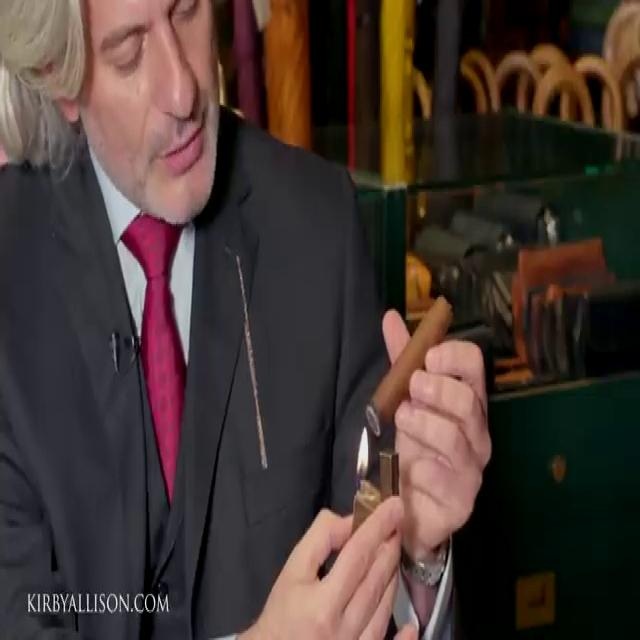Smooking: (350, 257, 467, 471)
